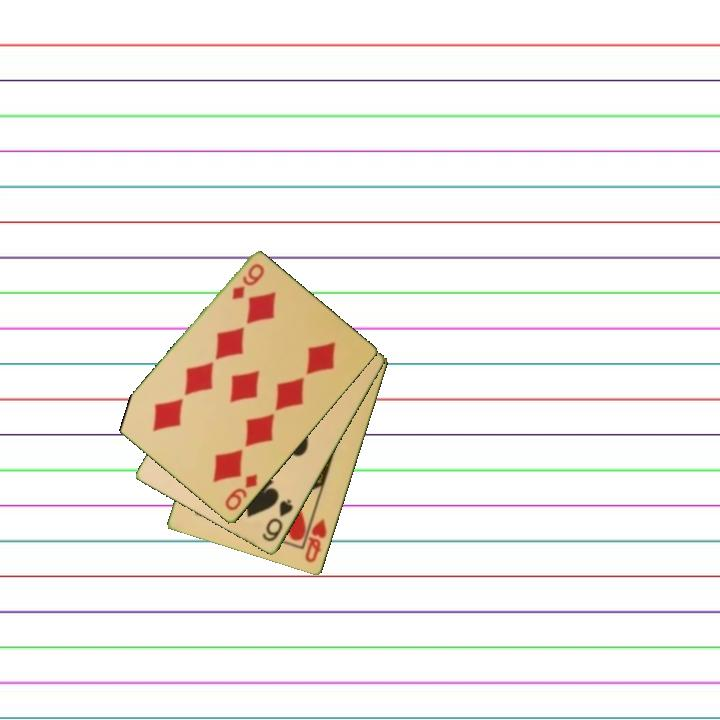6s: (259, 496, 296, 545)
9d: (221, 471, 261, 514), (228, 260, 268, 303)
Qh: (302, 515, 330, 566)
